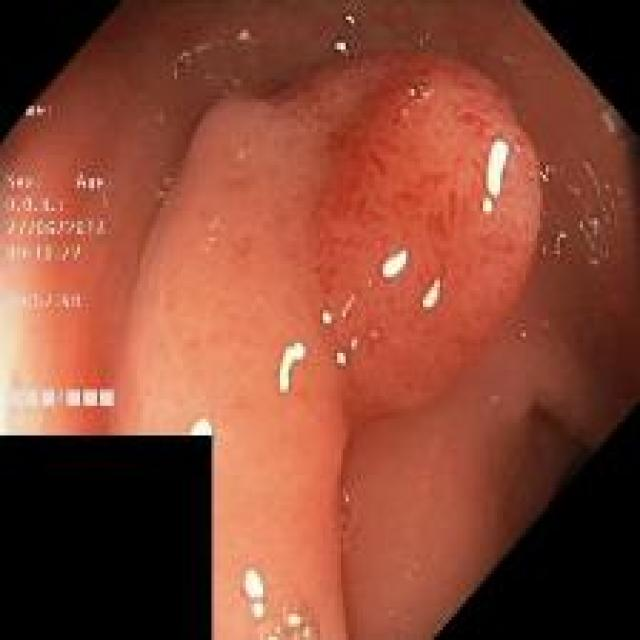Polyps: (290, 56, 541, 428)
